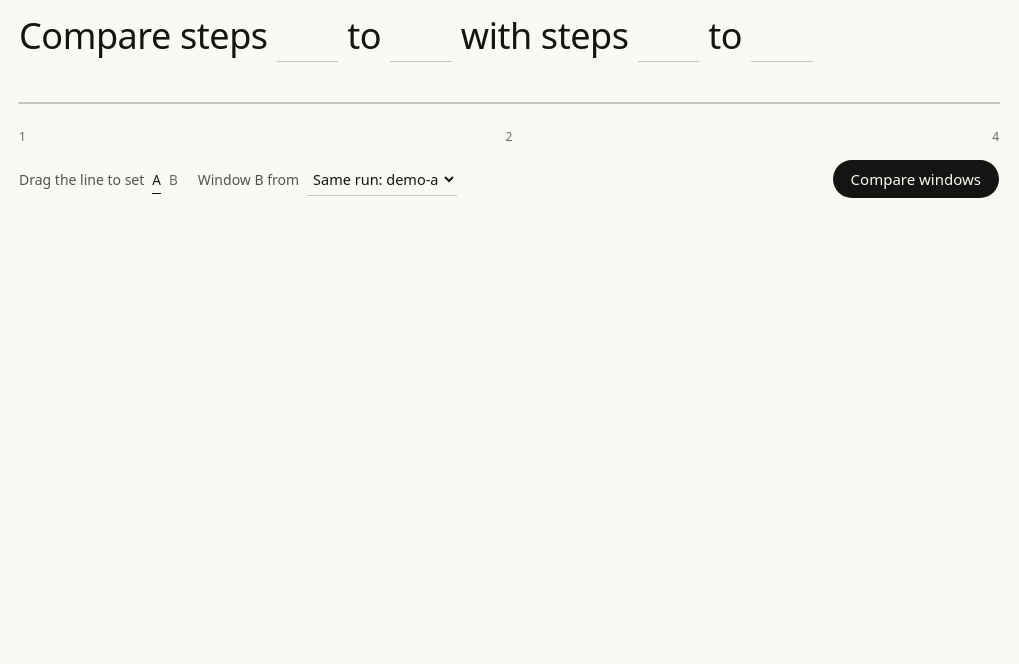
submitting windows › posts decimal strings
In the field named "A start": (308, 37) top-left (277, 12), bottom-right (338, 62), type "1"
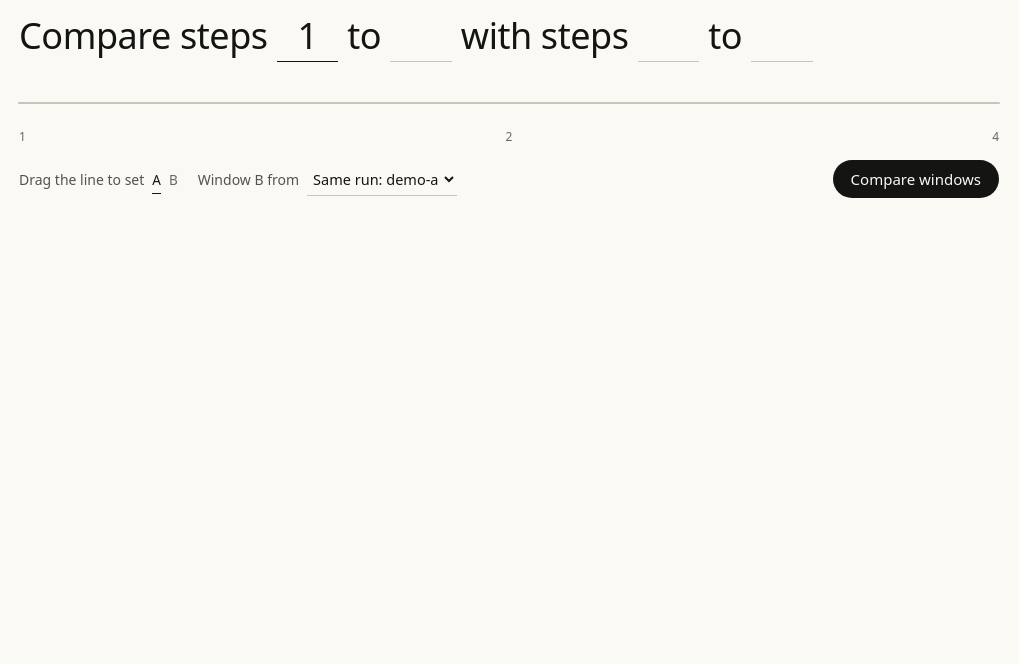
In the field named "A end": (421, 37) top-left (390, 12), bottom-right (452, 62), type "2"
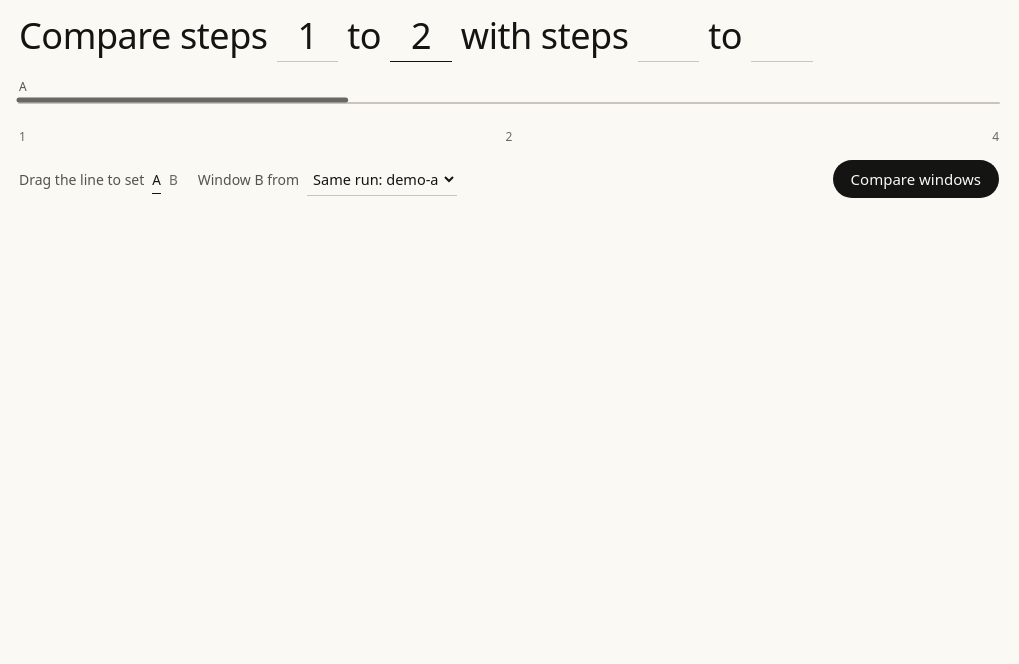
In the field named "B start": (668, 37) top-left (638, 12), bottom-right (699, 62), type "3"
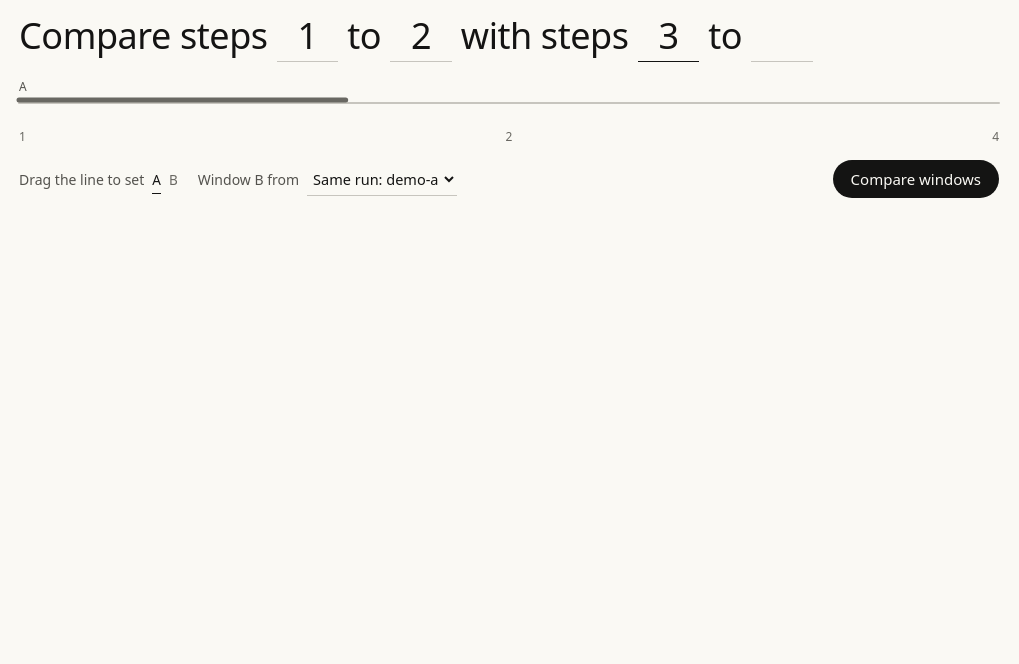
In the field named "B end": (782, 37) top-left (751, 12), bottom-right (813, 62), type "5"
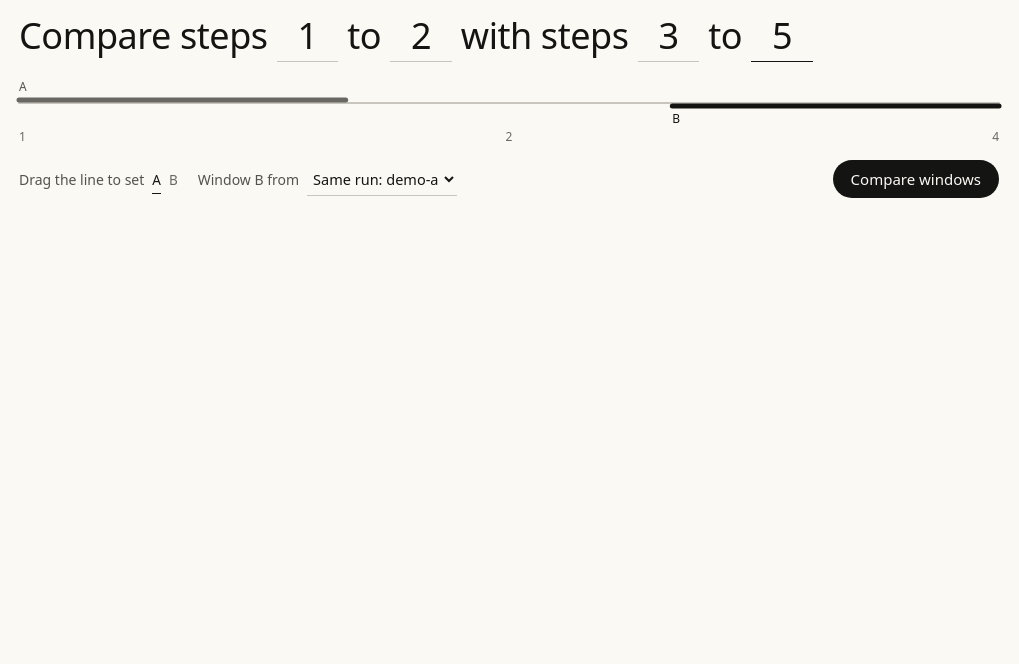
Click the button "Compare windows": (916, 179) top-left (833, 160), bottom-right (999, 198)
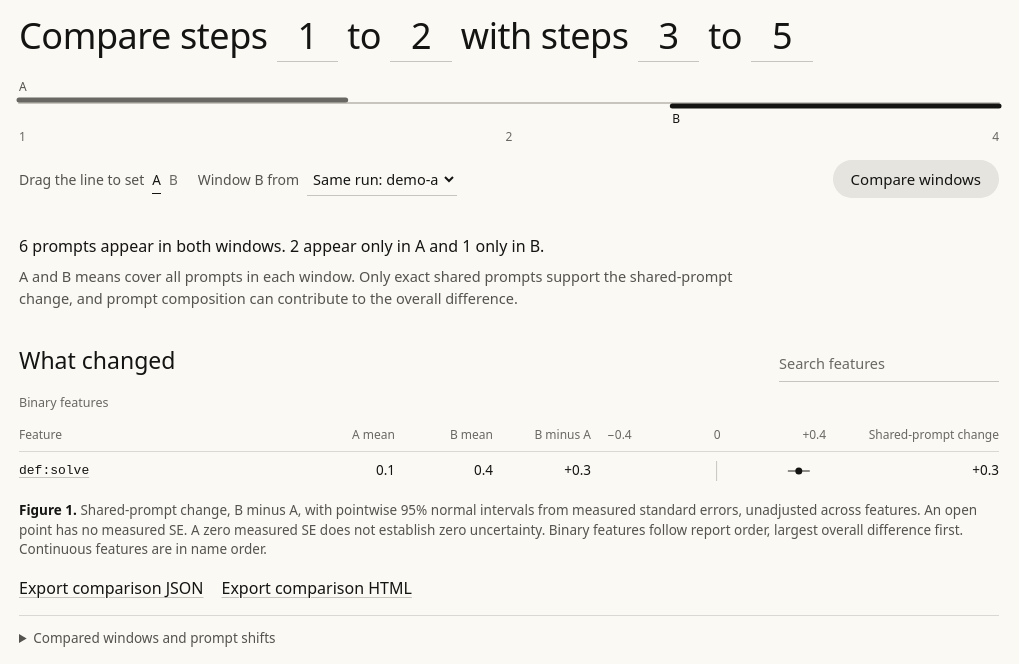
expect the heading "What changed" is shown: met, box top-left (19, 346), bottom-right (175, 376)
